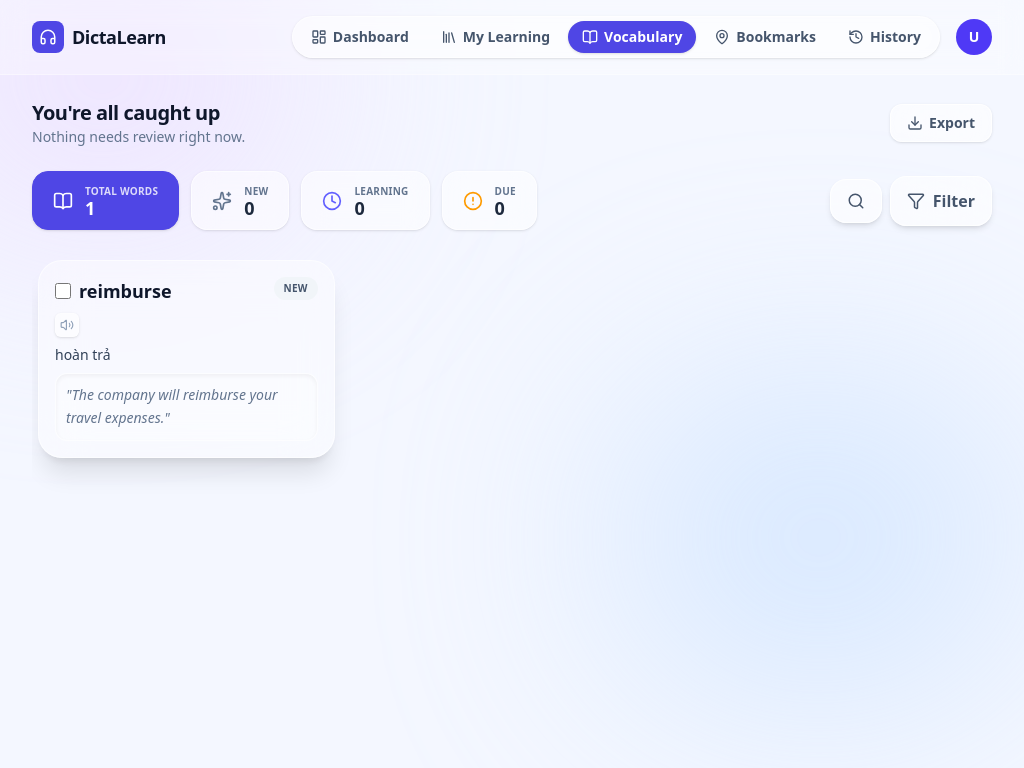
Test case: VocabularyPage › no longer renders a Status pill group inside the Filter panel — Status lives in the metric strip
The width and height of the screenshot is (1024, 768).
Expected: the number of elements with test id "vocab-card" is 1, [38, 260, 335, 458]
Click the button "Filter" at x=941, y=200, box [890, 176, 992, 226]
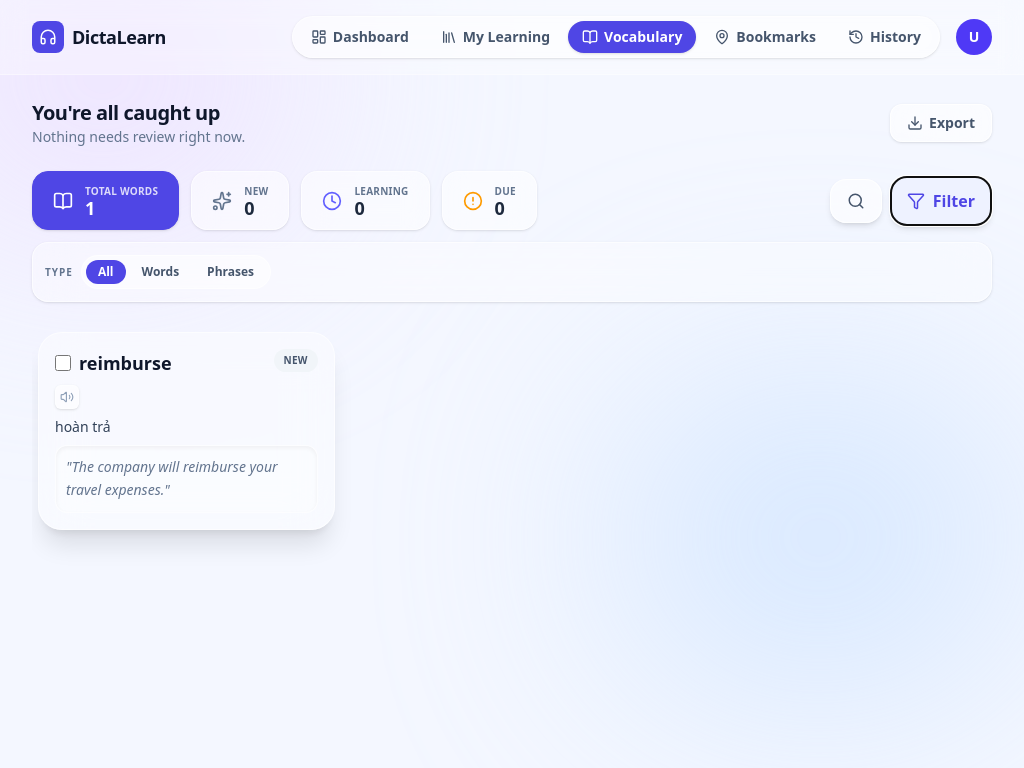
Now the text "Type" is shown, box [45, 264, 73, 280]
